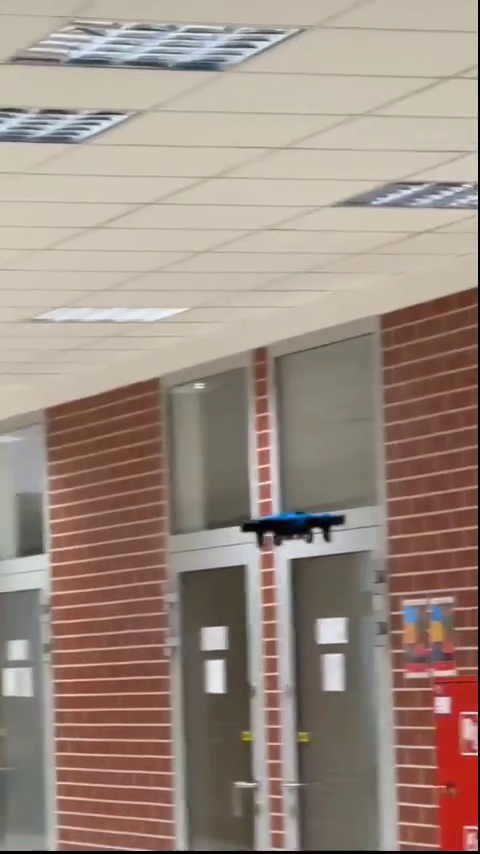drone: (238, 507, 345, 552)
